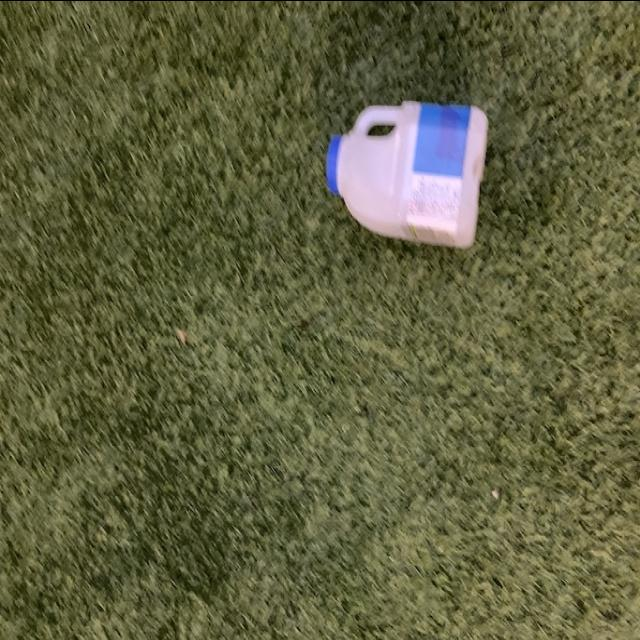litter: (324, 96, 494, 248)
